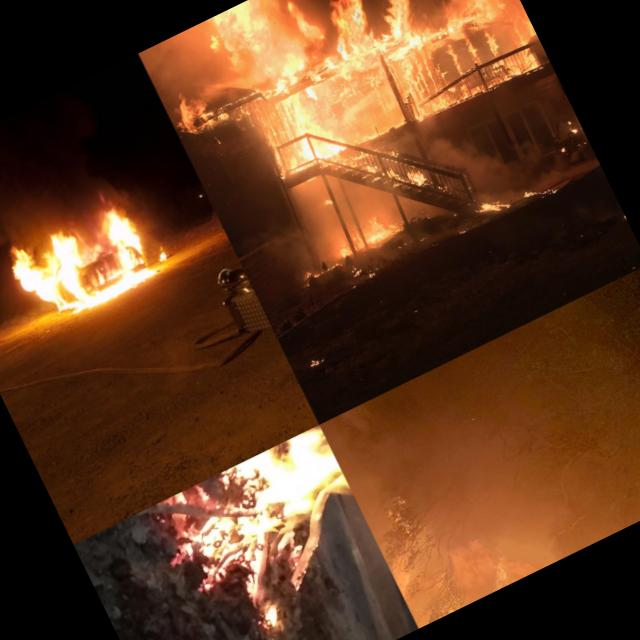fire: (129, 423, 418, 640), (0, 179, 164, 335), (382, 0, 549, 134), (188, 0, 335, 111), (269, 87, 374, 187), (303, 0, 447, 72), (377, 518, 470, 628), (471, 512, 567, 592), (163, 66, 249, 146), (341, 138, 404, 202), (332, 210, 403, 262), (392, 142, 441, 198), (412, 0, 517, 25), (514, 170, 560, 213), (292, 343, 334, 386), (470, 188, 510, 225), (607, 202, 634, 240)
smoke: (391, 295, 640, 551), (320, 389, 450, 544)
